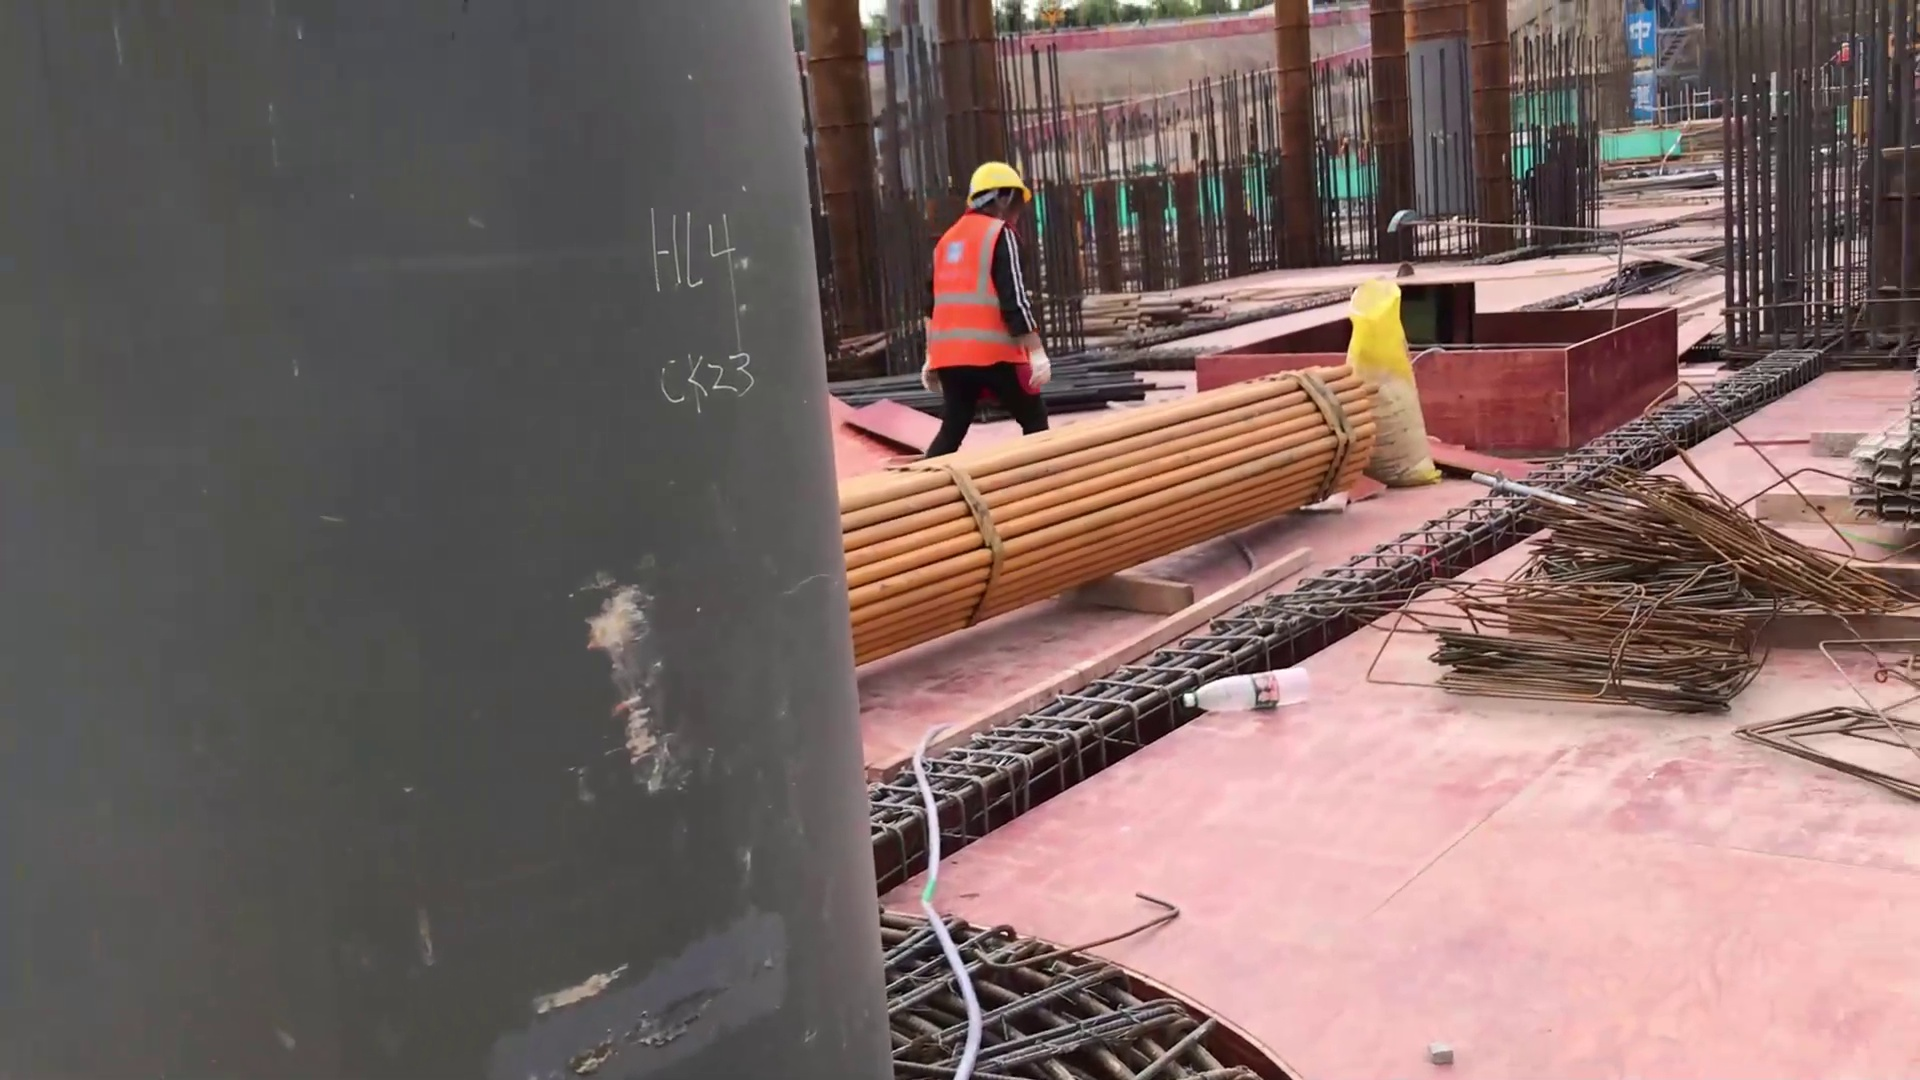cutter: (1288, 211, 1673, 441)
helmet: (967, 158, 1050, 198), (1840, 42, 1852, 47)
person: (914, 121, 1071, 460), (1833, 39, 1858, 74)
vest: (916, 222, 1017, 372), (1836, 50, 1852, 63)
